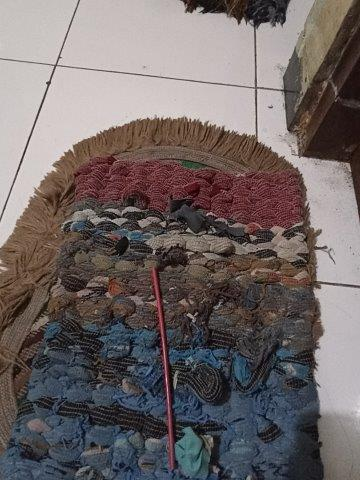sedotan: (151, 269, 174, 466)
